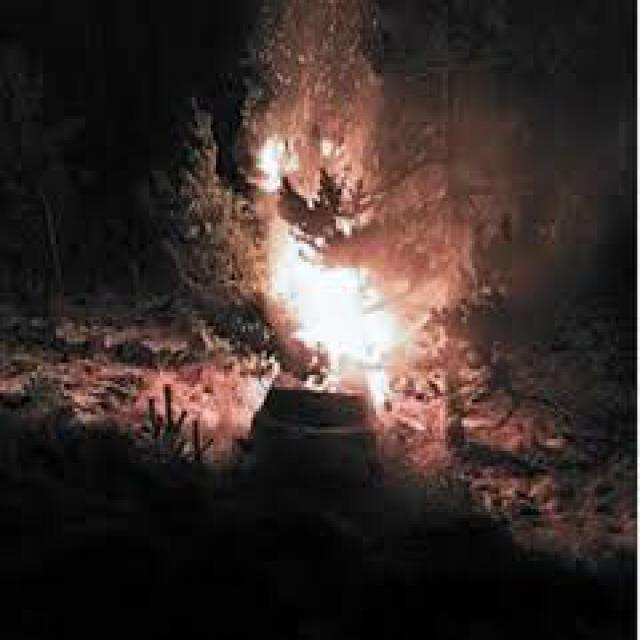fire: (248, 198, 397, 405)
